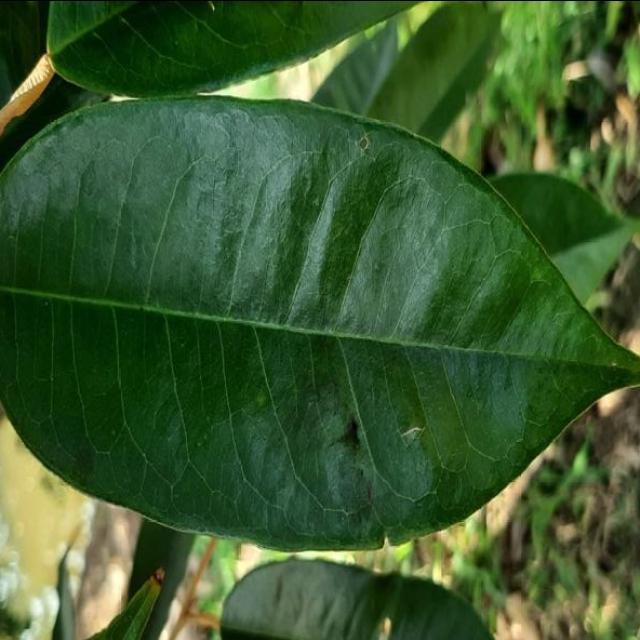No Disease: (0, 93, 640, 559)
